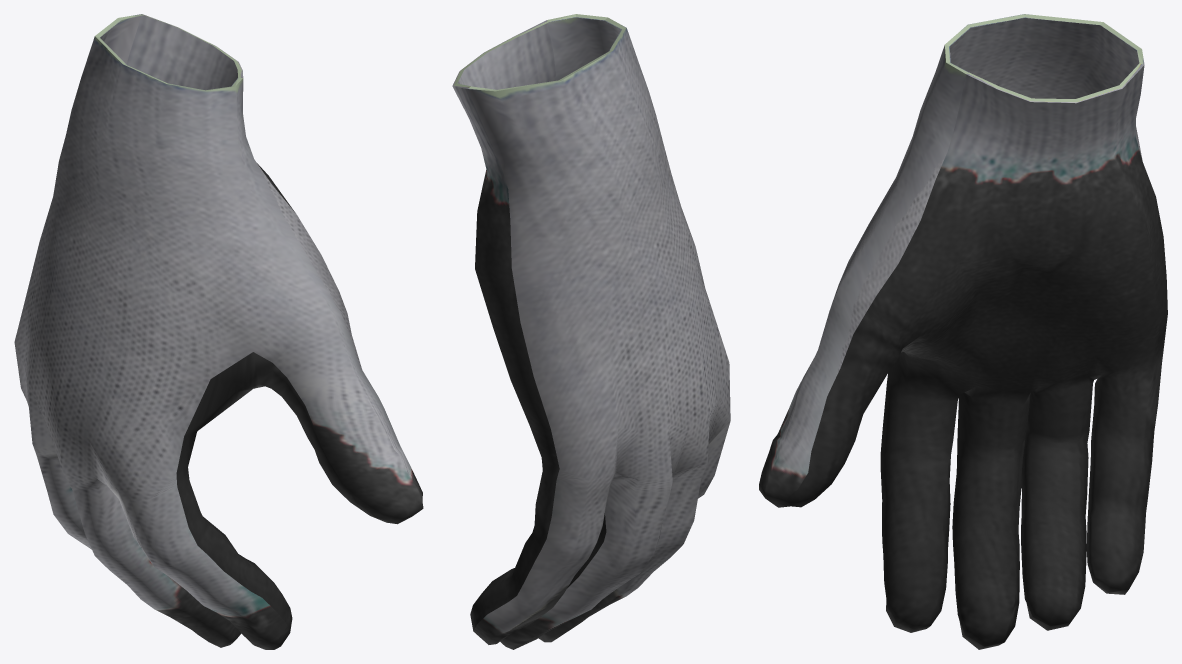
File: Glove_Right.fbx
3 views of the same model, side by side, from view 1: azimuth 30°, elevation 25°; view 2: azimuth 150°, elevation 25°; view 3: azimuth 270°, elevation 25° (orthographic). The views are drawn at different scales.
Parts seen in each view (by area): view 1: polySurface1; view 2: polySurface1; view 3: polySurface1.
Boxes of the visible parts, bbox=[...] form: polySurface1: bbox=[14, 14, 423, 649]; polySurface1: bbox=[452, 14, 730, 649]; polySurface1: bbox=[759, 14, 1167, 649].
Bounding box in the file's own units: 10.06 × 21.73 × 13.56.
